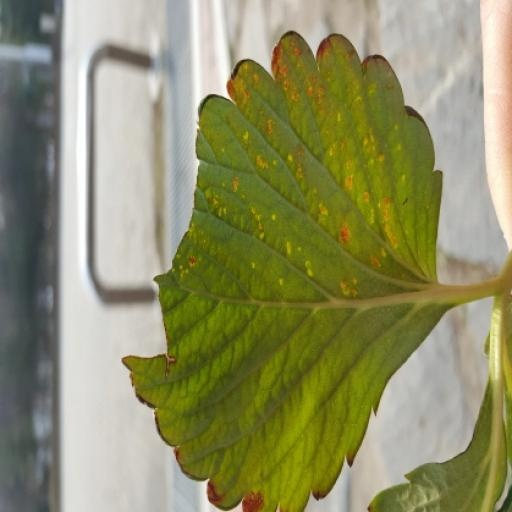Angular Leafspot: (168, 208, 434, 485)
